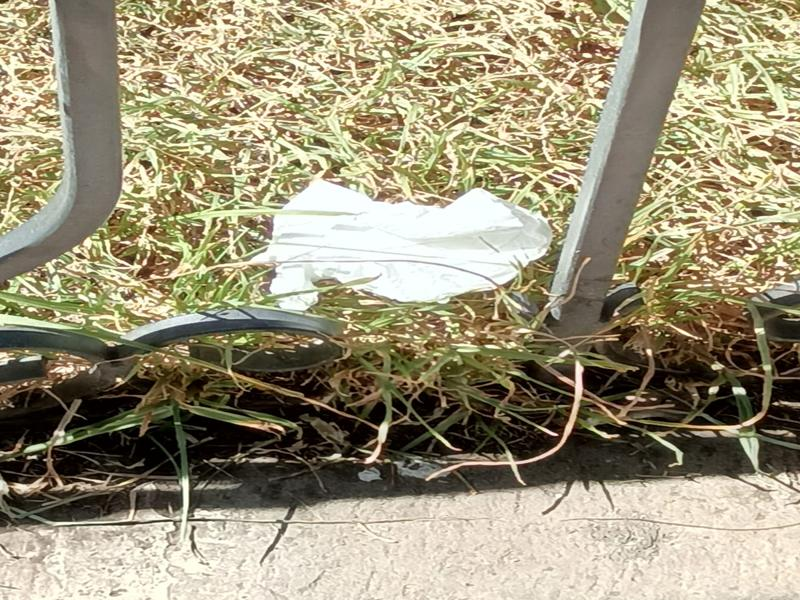papel: (265, 179, 553, 314)
